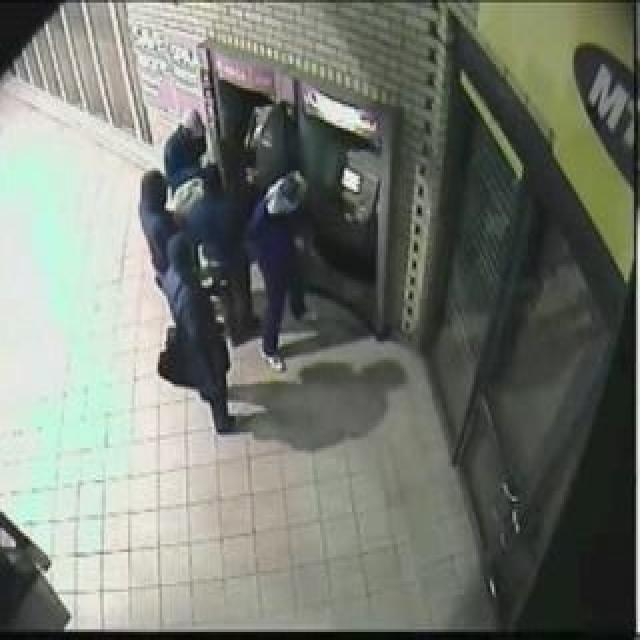thief: (120, 104, 331, 320)
